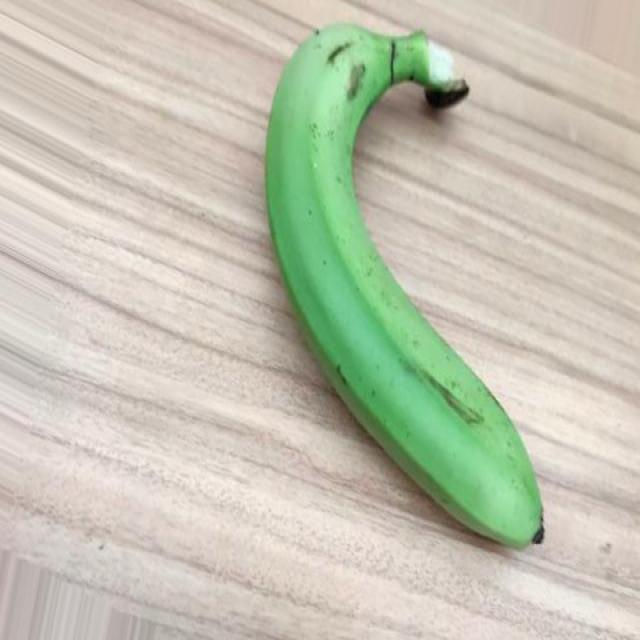Unripe: (265, 18, 545, 554)
